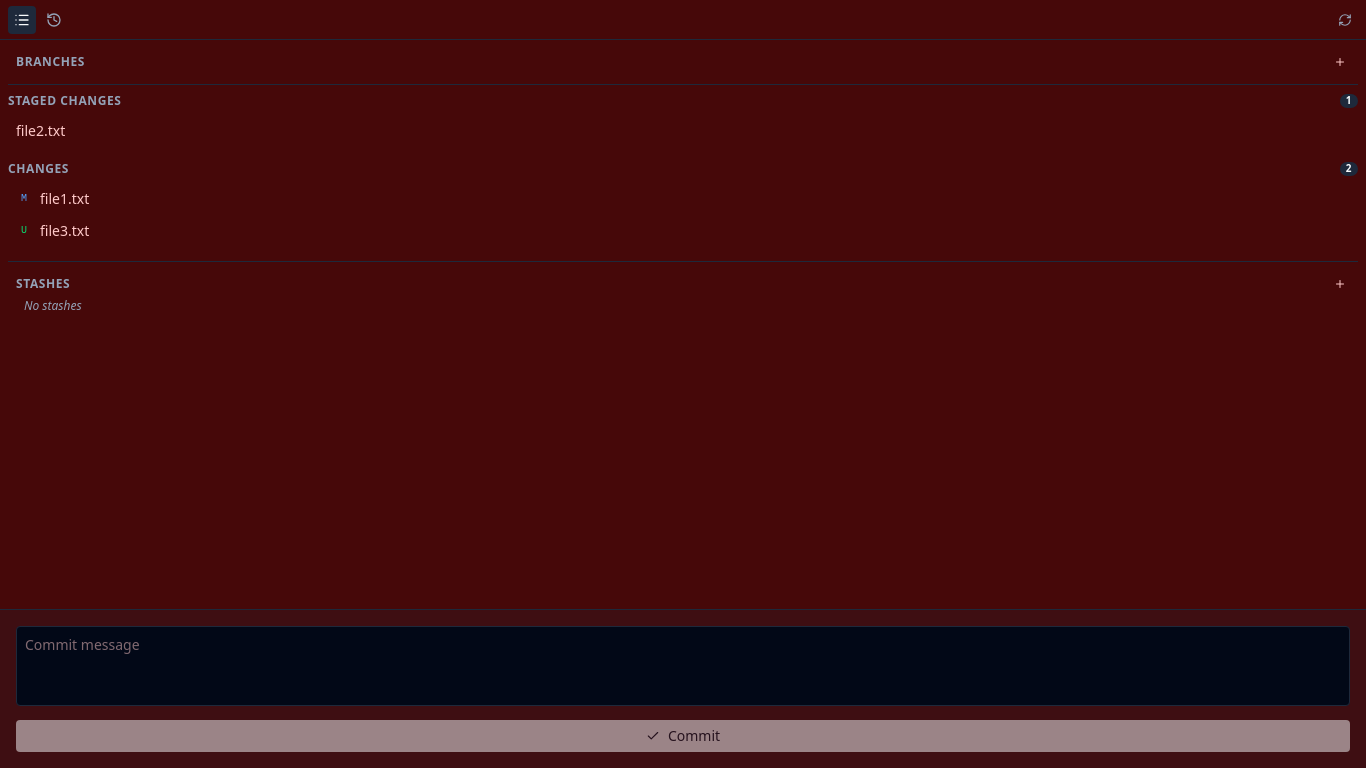
SourceControlPanel › should enable commit button when staged files and message provided
The image size is (1366, 768).
Type "Test commit" into the text box with placeholder "Commit message" at (683, 666), box x1=16 y1=626 x2=1350 y2=706
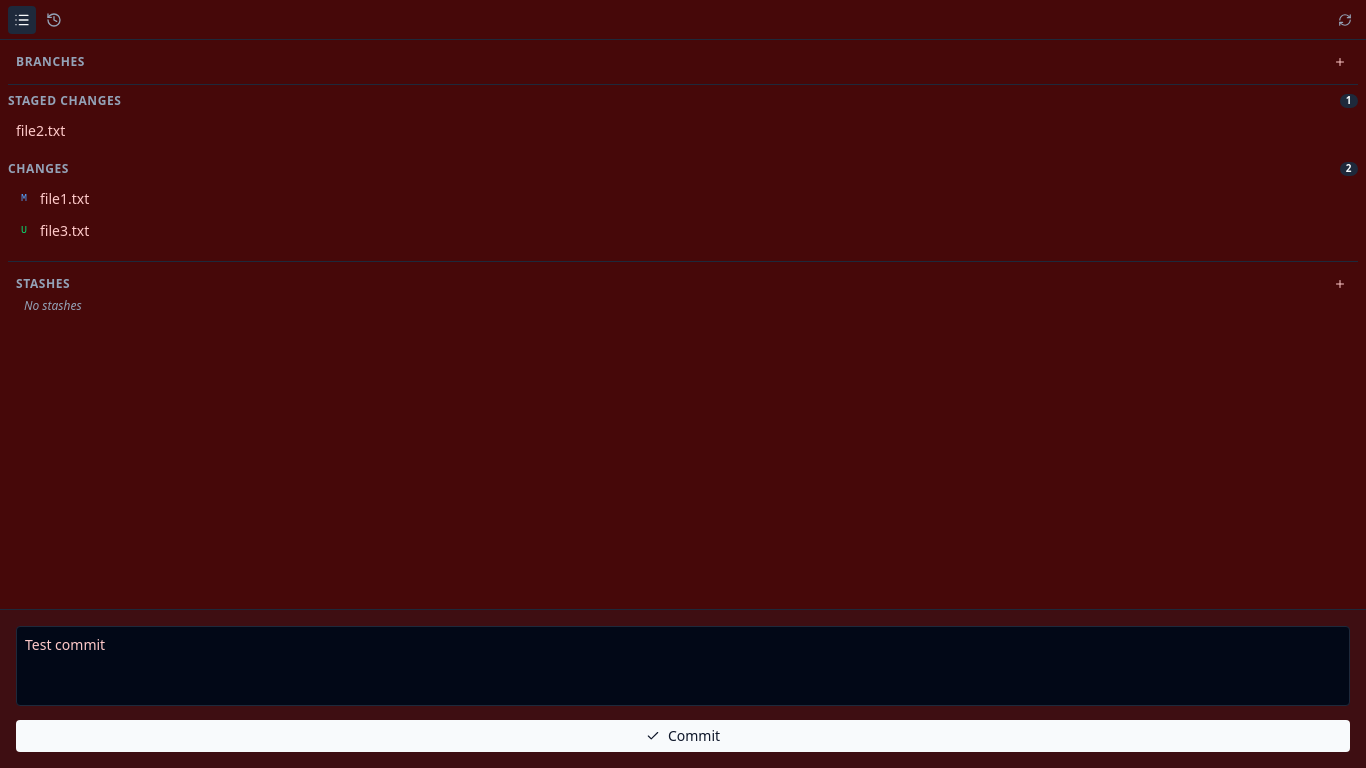
Expected: the button "Commit" is enabled, x1=16 y1=720 x2=1350 y2=752
